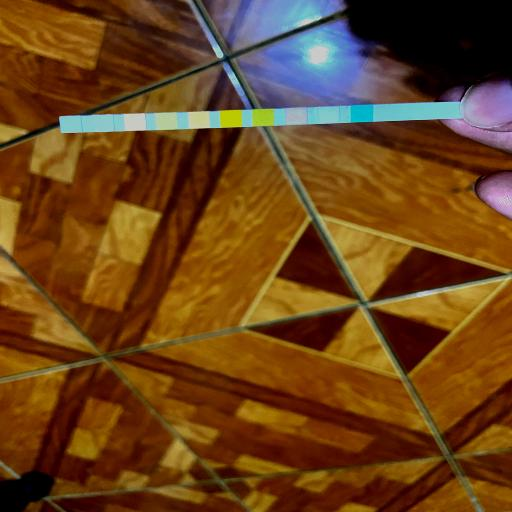Bilirubin: (318, 107, 340, 123)
Blood: (221, 110, 241, 126)
Glucose: (350, 106, 372, 122)
Ketone: (286, 108, 308, 124)
Leukocytes: (60, 116, 80, 132)
Nitrite: (94, 116, 114, 132)
Protein: (156, 113, 176, 129)
SpGravity: (253, 110, 274, 126)
Urobilinogen: (126, 114, 146, 130)
pH: (189, 112, 209, 128)
strip: (58, 101, 457, 133)
